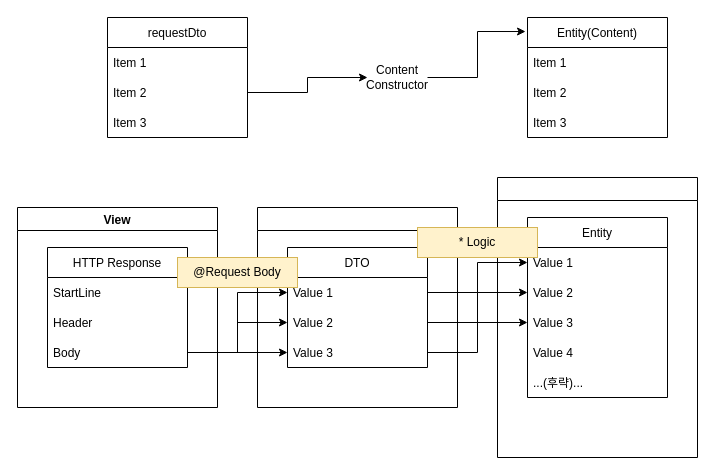
This 715x475 diagram has some shape labels left out. The shapes that lost their labels are listed below. From the top down, each one's centre as x and y in pixels, then its label:
(x=357, y=307): Controller
(x=597, y=317): Service
